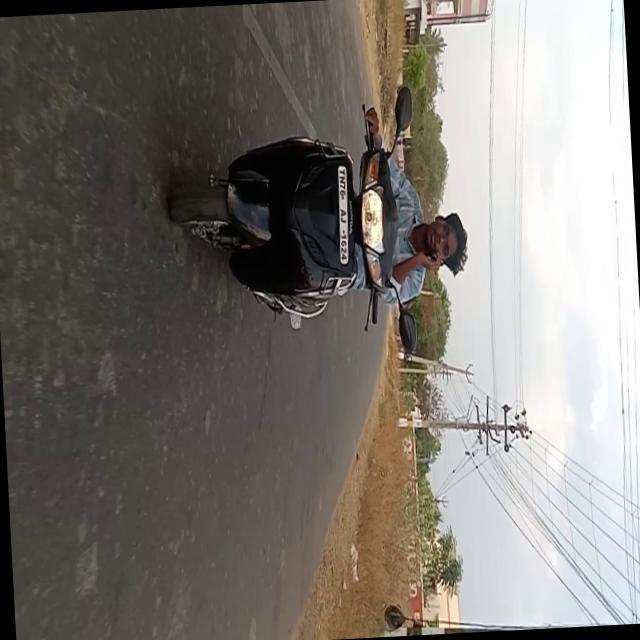USING_MOBILE: (392, 247, 448, 286)
